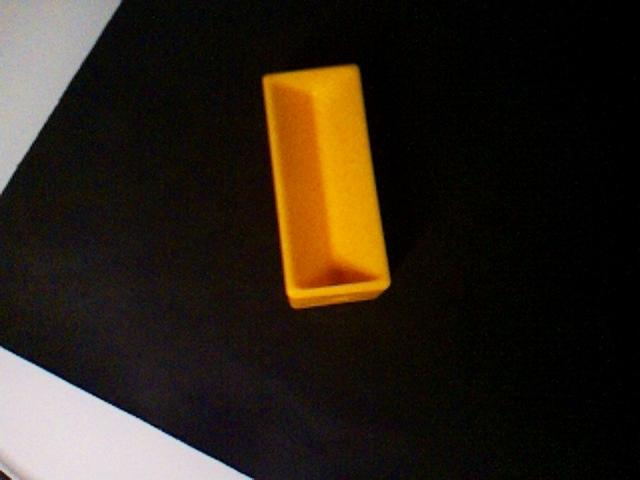yellow: (260, 62, 393, 310)
